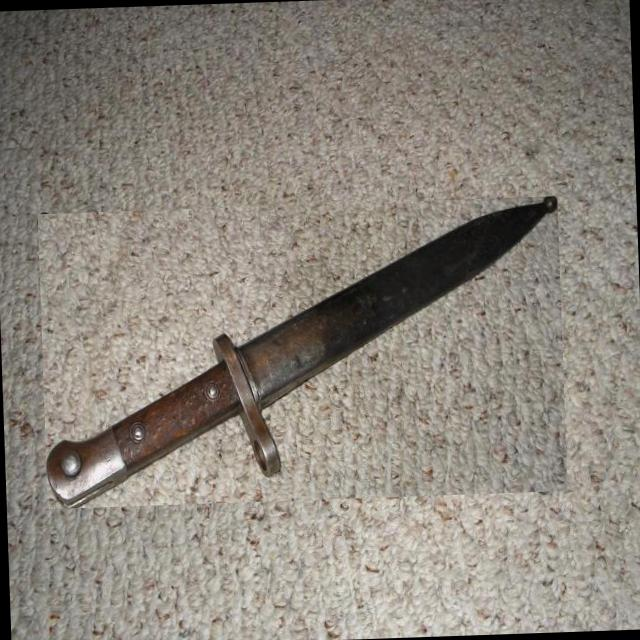Knife: (46, 196, 557, 508)
